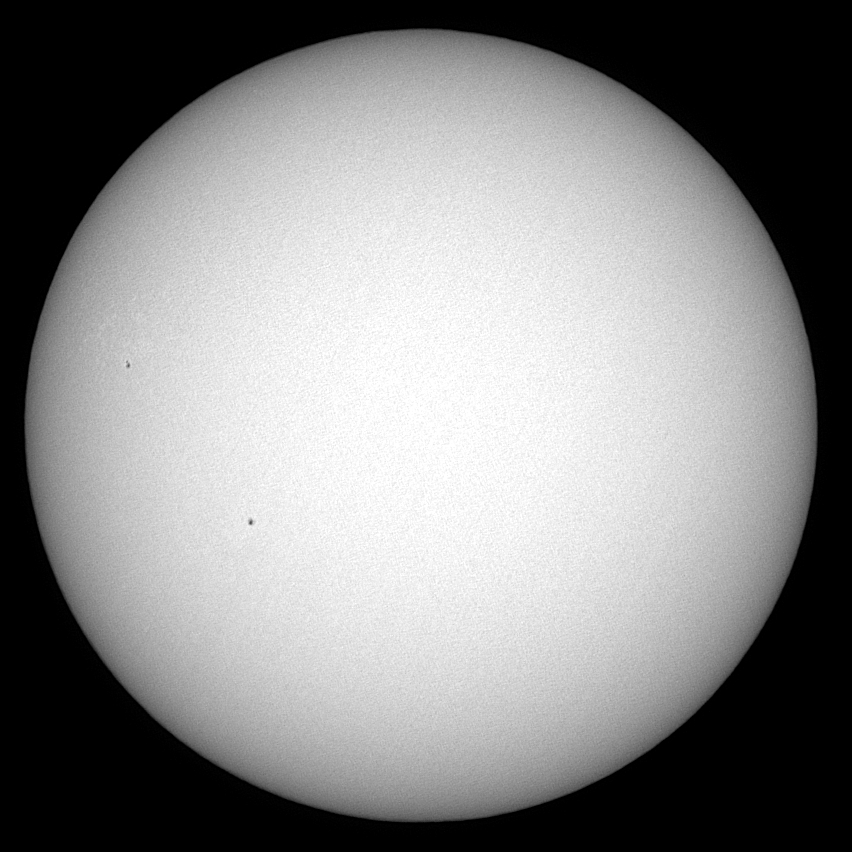sunspot: (246, 513, 260, 532), (120, 355, 133, 369)
